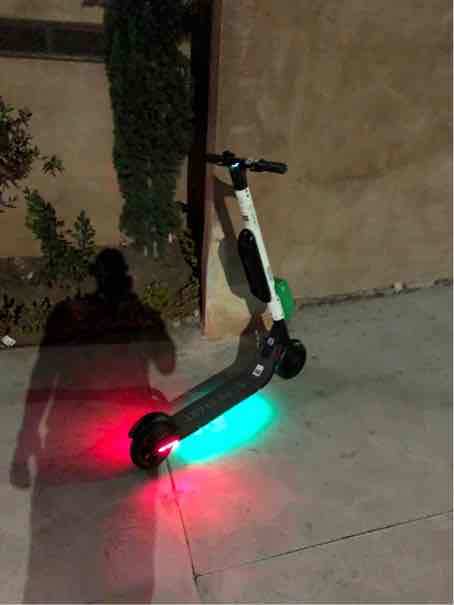scooter: (117, 144, 314, 474)
